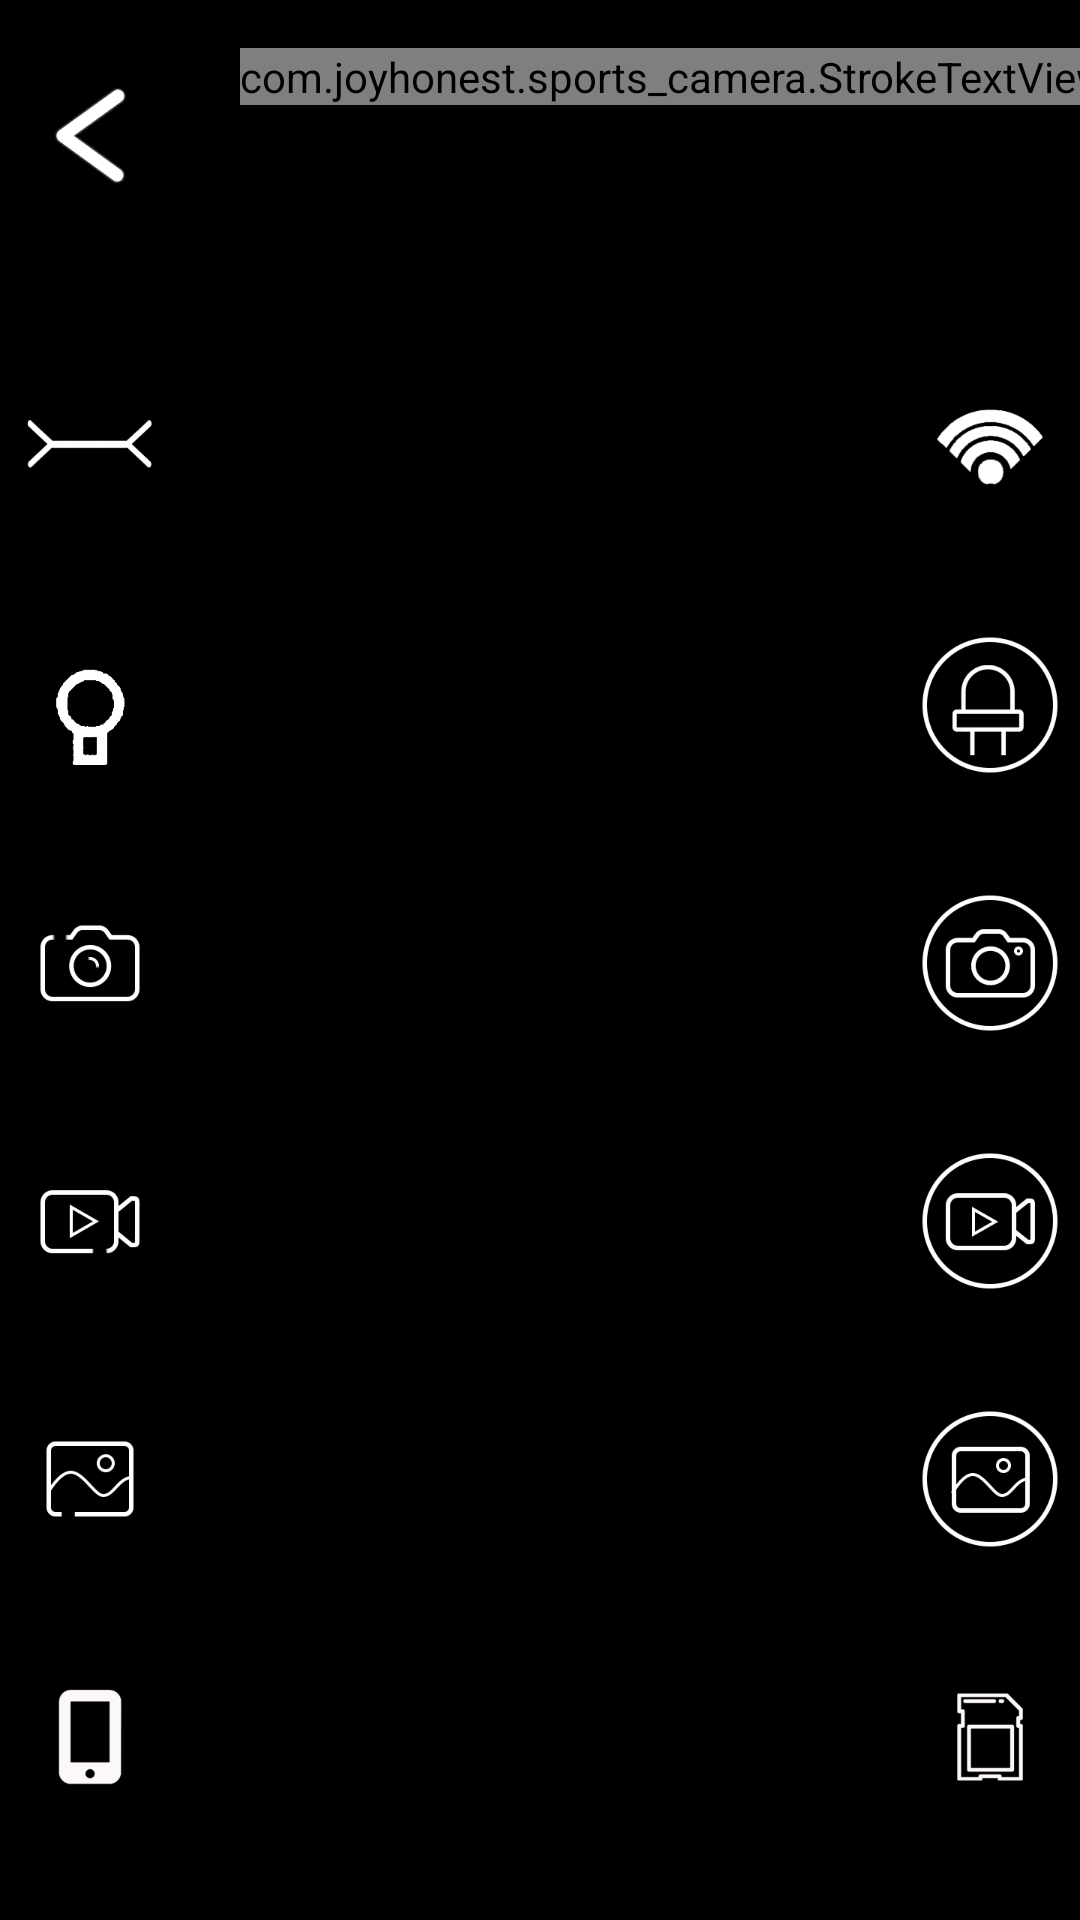

Icons on this 1080w x 1920h Android screen, each with the point to tap as (x,y):
back play: (90,135)
gallery: (90,1479)
gallery device: (990,1479)
jhd wifi: (990,447)
phone: (90,1736)
photo: (90,963)
photo device: (990,963)
video: (90,1222)
video device: (990,1221)
